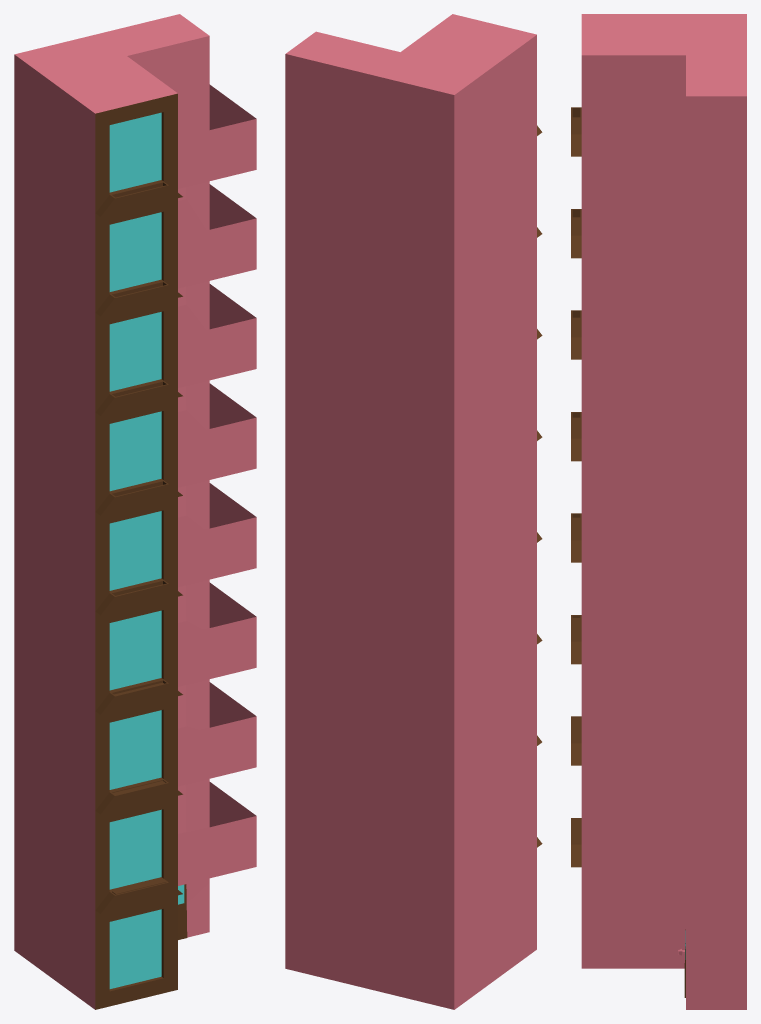
File: Tower  Pink.fbx
3 views of the same model, side by side, from view 1: azimuth 30°, elevation 25°; view 2: azimuth 150°, elevation 25°; view 3: azimuth 270°, elevation 25° (orthographic). The views are drawn at different scales.
Parts seen in each view (by area): view 1: Cube.004; view 2: Cube.004; view 3: Cube.004.
Part boxes in pixels (x1,y1,x2,y2): Cube.004: [14, 14, 256, 1009]; Cube.004: [285, 14, 542, 1009]; Cube.004: [571, 14, 746, 1009].
Bounding box in the file's own units: 2037 × 10537 × 1839.
